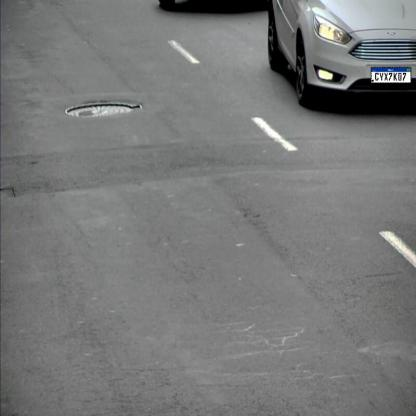PlacaM: (371, 67, 411, 83)
